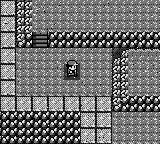captura: (0, 0, 160, 144)
main: (66, 60, 79, 76)
no-caminable: (0, 1, 112, 143), (112, 51, 159, 111), (0, 112, 80, 143), (48, 32, 159, 48), (16, 0, 32, 48)
